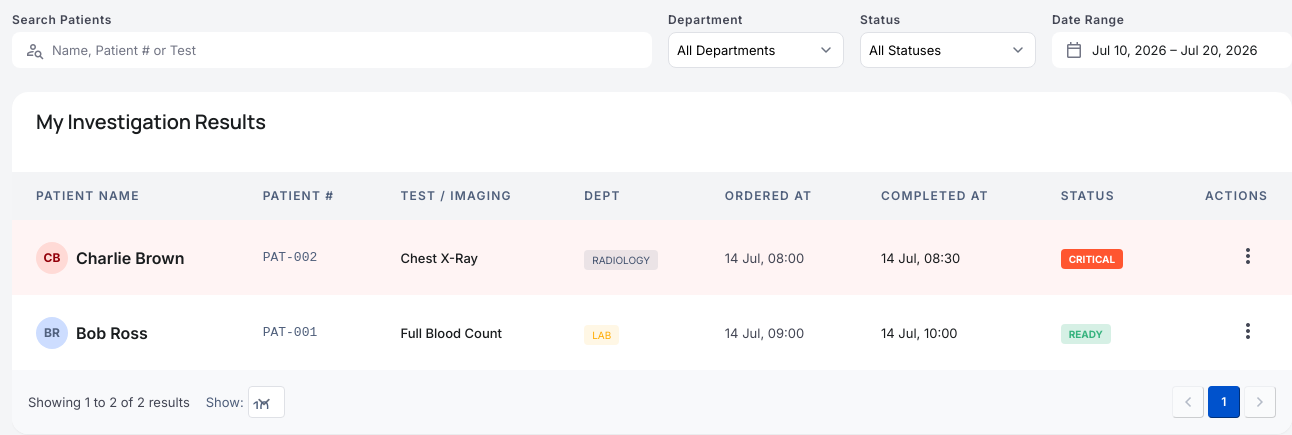
Test: InvestigationResultsPage › filters results by search input query
Expected: the text "Bob Ross" is shown, [76, 322, 148, 342]
In the field with placeholder "Name, Patient # or Test": (346, 50) [52, 41, 640, 59], type "Charlie"
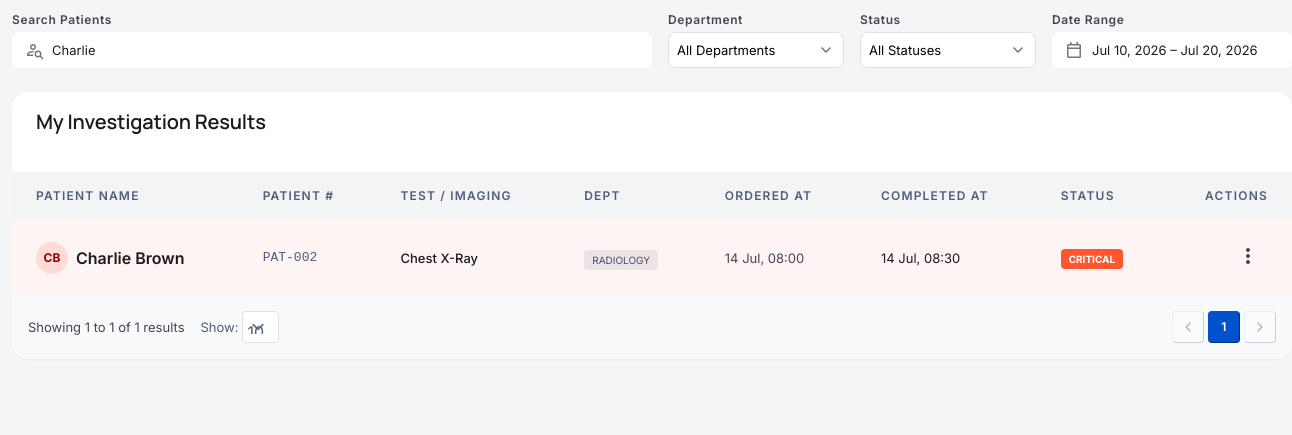
Expected: the text "Charlie Brown" is shown, [76, 248, 184, 268]
Result: the text "Bob Ross" is gone
